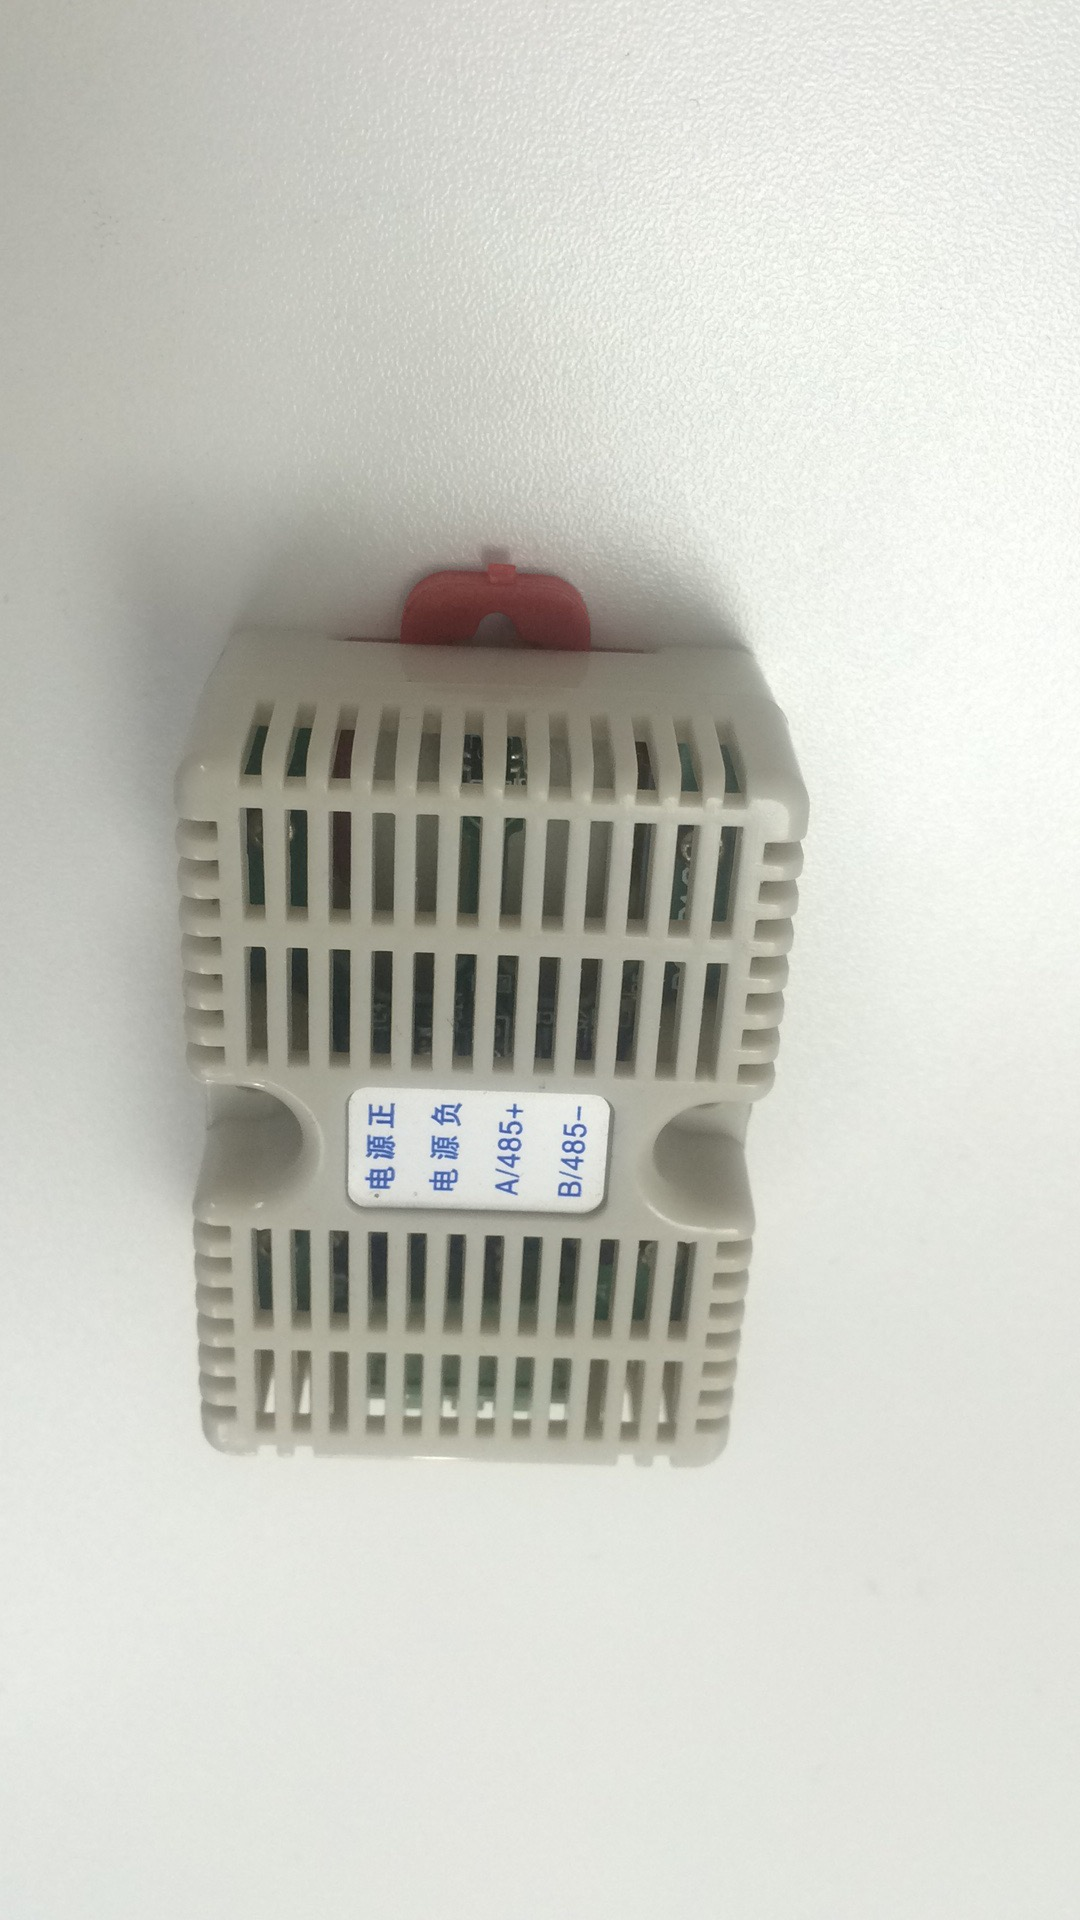temperature: (146, 553, 827, 1498)
